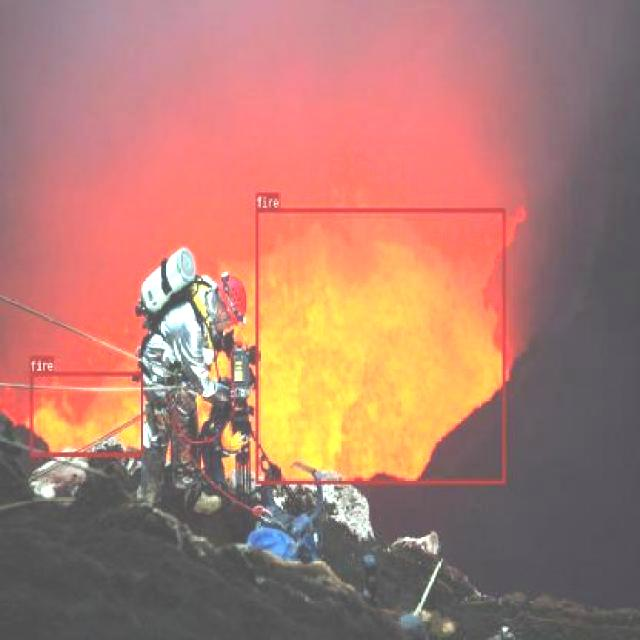fire: (256, 208, 504, 483), (29, 370, 142, 456)
